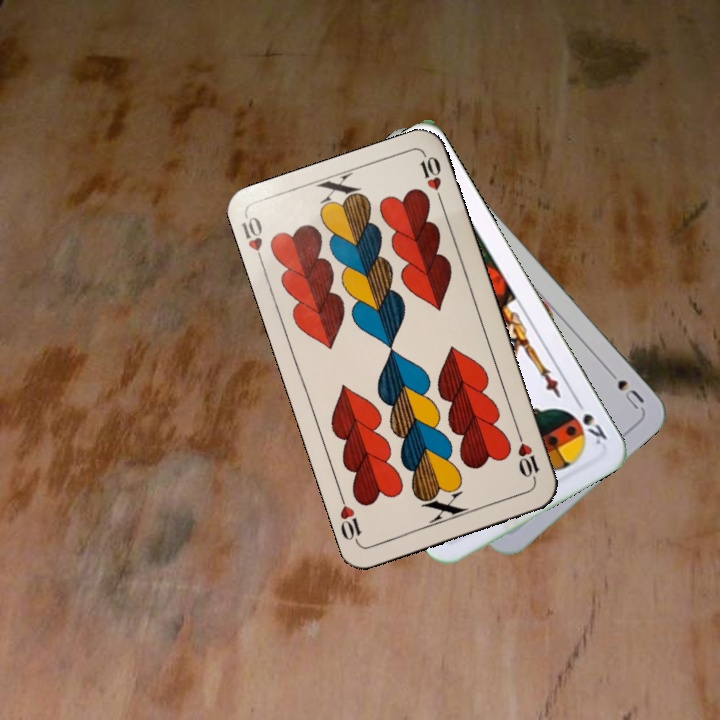H10: (238, 212, 268, 270), (513, 427, 542, 485)
SK: (571, 394, 610, 448)
SU: (601, 362, 647, 412)
